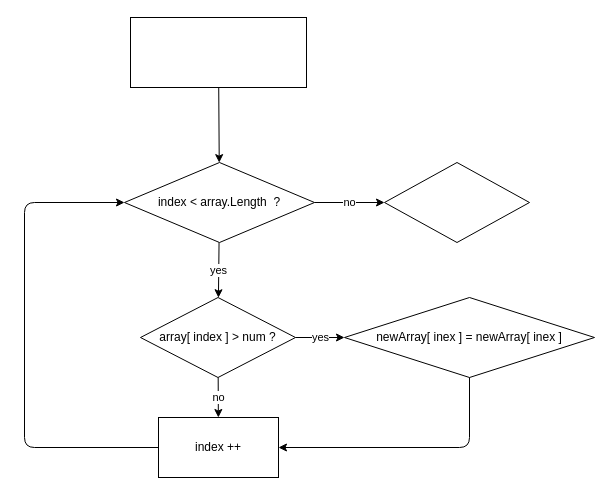
The diagram is 612 pixels wide and 495 high, and some of its shapes have lost their labels. Here are the shapes that lost their labels. From the top down, the box of each, then its label:
(130, 16, 306, 88): int[ ] array = { 2, 6, 8, 5 , 9 } int[ ] newArray index = 0 num = 8
(384, 162, 530, 242): print newArray
